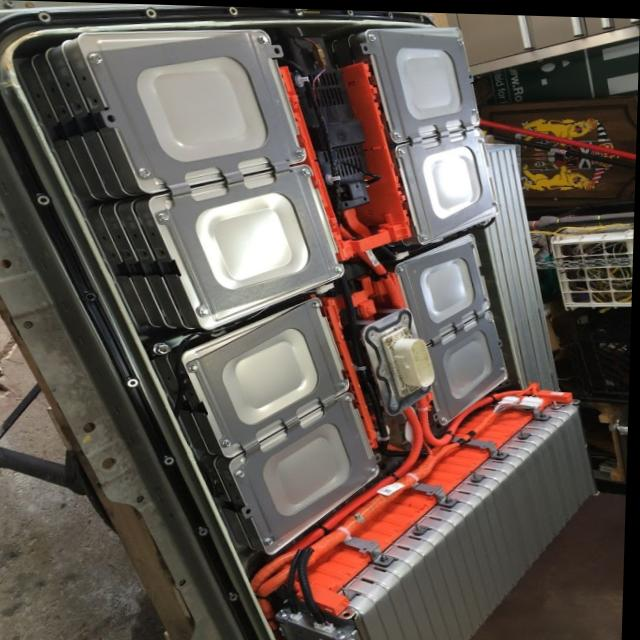Battery Module: (108, 35, 325, 309), (370, 409, 601, 640), (204, 307, 367, 539), (384, 34, 491, 231), (411, 246, 502, 413)
Bolt: (84, 47, 104, 66), (309, 293, 328, 310), (387, 125, 407, 141), (132, 166, 153, 180), (231, 467, 253, 480), (155, 210, 175, 224), (190, 304, 213, 316), (182, 361, 205, 373), (367, 462, 388, 475), (360, 28, 381, 41), (298, 166, 317, 180), (253, 31, 270, 46), (216, 437, 239, 448), (435, 409, 457, 420), (491, 193, 507, 208), (483, 311, 503, 323), (294, 144, 311, 158), (334, 377, 355, 388), (499, 361, 516, 374), (415, 230, 435, 241), (478, 128, 492, 143), (342, 389, 360, 400), (470, 237, 482, 253), (264, 535, 281, 545), (396, 142, 409, 155), (333, 263, 349, 272), (478, 290, 492, 299), (453, 32, 465, 42), (467, 102, 479, 112)
Bus-bar: (279, 59, 413, 255), (326, 280, 386, 435)
Cable: (262, 387, 531, 577), (366, 250, 405, 303)
Nut: (537, 403, 555, 420), (151, 342, 177, 353), (376, 548, 398, 561), (511, 425, 537, 436), (438, 492, 464, 502), (471, 467, 488, 481), (410, 519, 427, 532), (493, 443, 509, 456)
